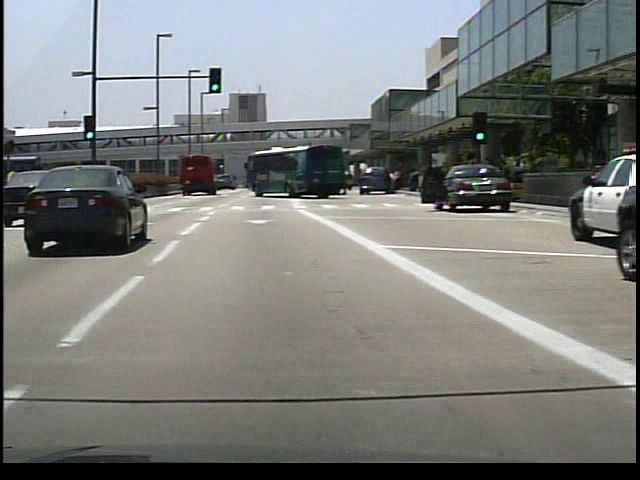person: (385, 168, 396, 194)
